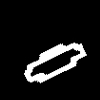chain: (24, 43, 85, 82)
